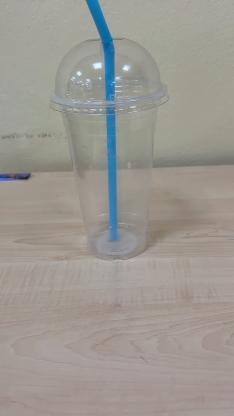Plastic Cup: (48, 37, 170, 260)
